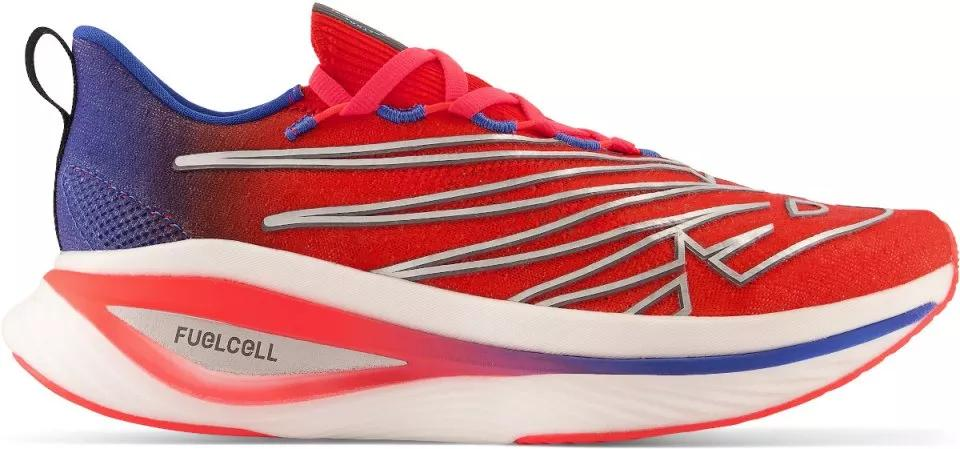NB logo: (147, 116, 915, 327)
